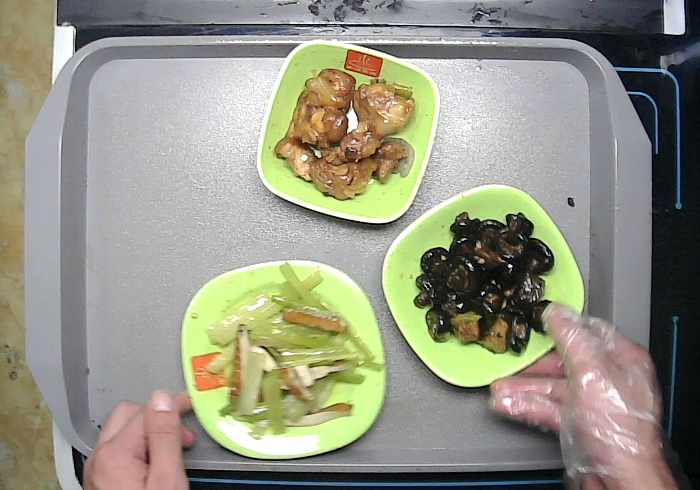SHKJ-Lv_Se_Cai_Die: (380, 183, 587, 389)
SHKJ-Lv_Se_Si_Fang_Cai_Die: (179, 258, 388, 460)
SHKJ-Lv_Se_Xiao_Fang_Die: (255, 39, 441, 224)
